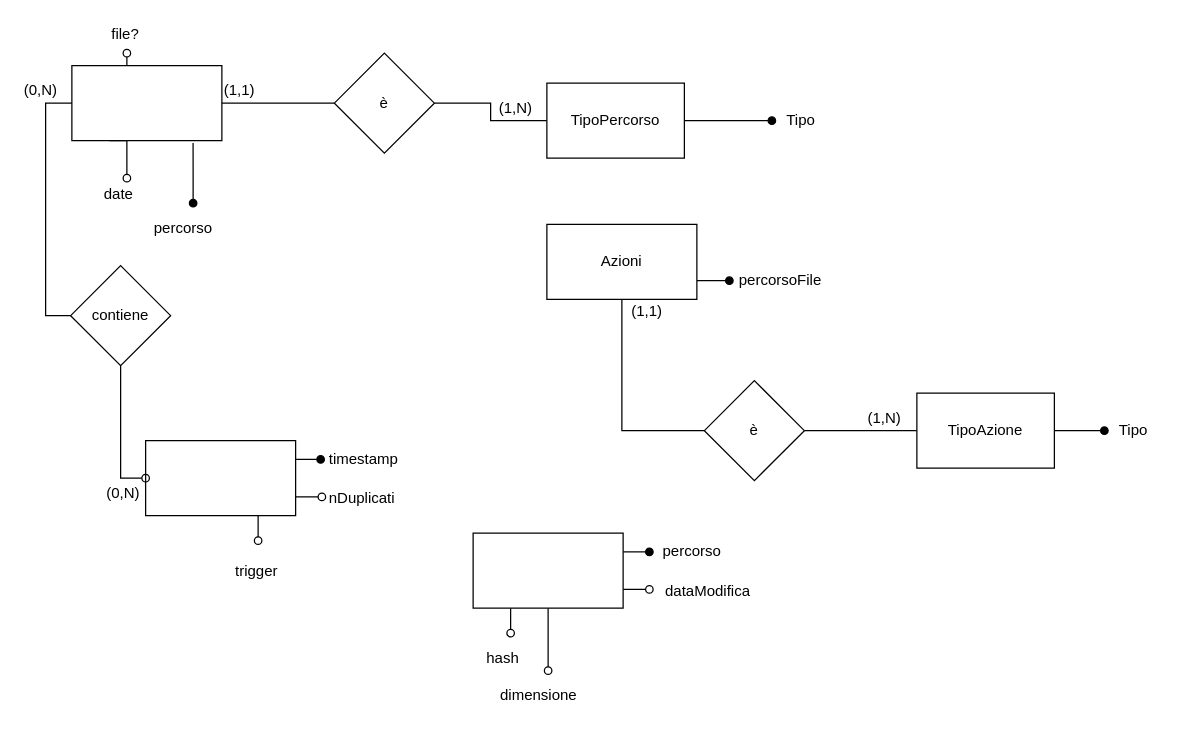
Image size: 1188x729. Some labels were removed from this diagram. Here are the shapes that lost their labels. From the top down, the centre of each, then its label:
At (x=146, y=102): "Percorsi".
At (x=220, y=477): "Rapporti".
At (x=547, y=570): "File".
